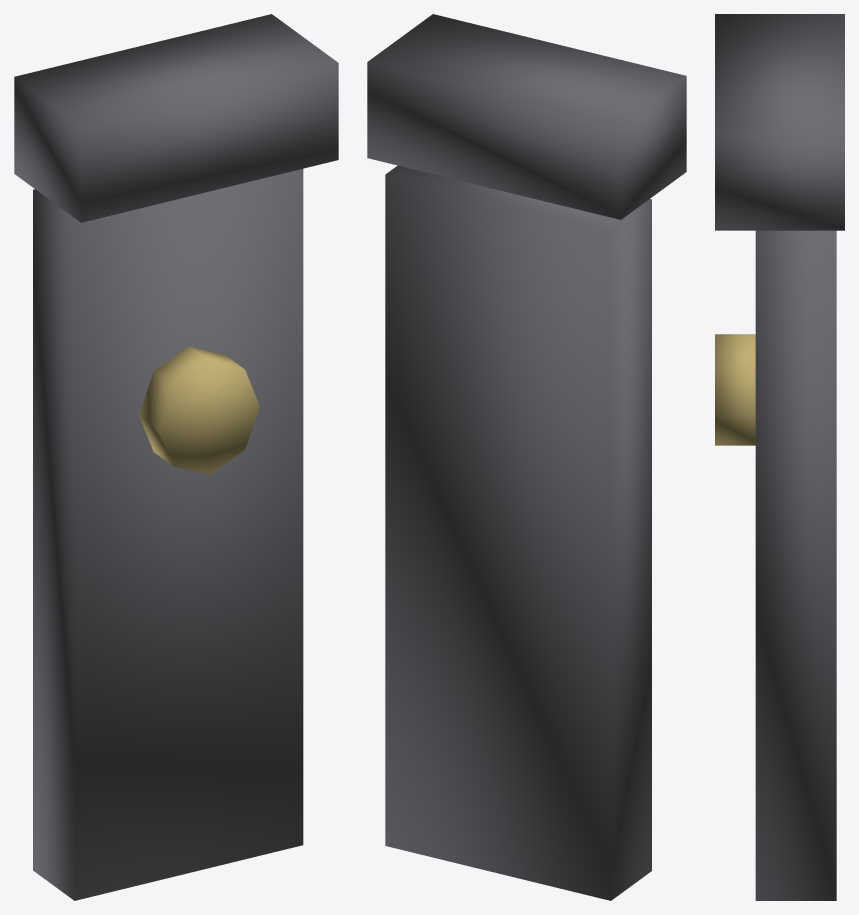
The model's file is elevator_call_06.glb.
The picture shows the model from 3 angles, left to right: view 1: azimuth 30°, elevation 25°; view 2: azimuth 150°, elevation 25°; view 3: azimuth 270°, elevation 25°; orthographic projection. The views are drawn at different scales.
Parts seen in each view (by area): view 1: world; view 2: world; view 3: world.
Part boxes in pixels (x1,y1,x2,y2): world: (14, 14, 338, 900); world: (367, 14, 686, 900); world: (715, 14, 844, 900).
Bounding box in the file's own units: 0.1728 × 0.5096 × 0.0776.
